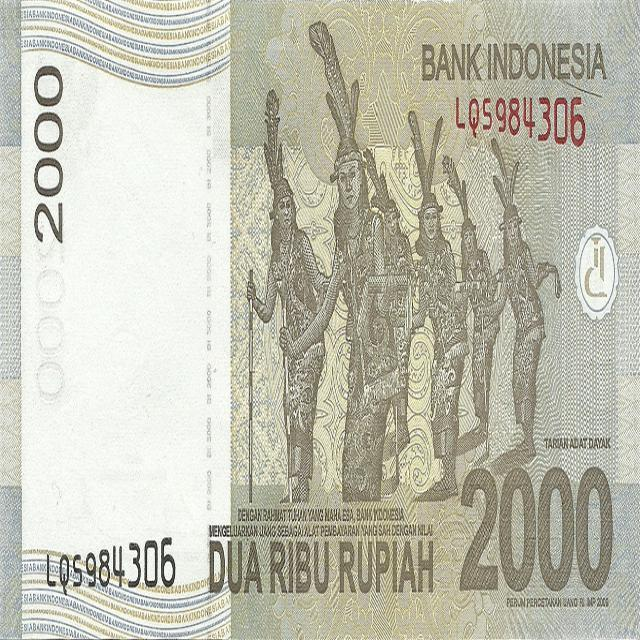dua ribu rupiah: (0, 2, 640, 640), (324, 52, 402, 490), (452, 449, 618, 614), (260, 137, 323, 494), (497, 130, 547, 470), (406, 144, 457, 474), (452, 174, 491, 431)
